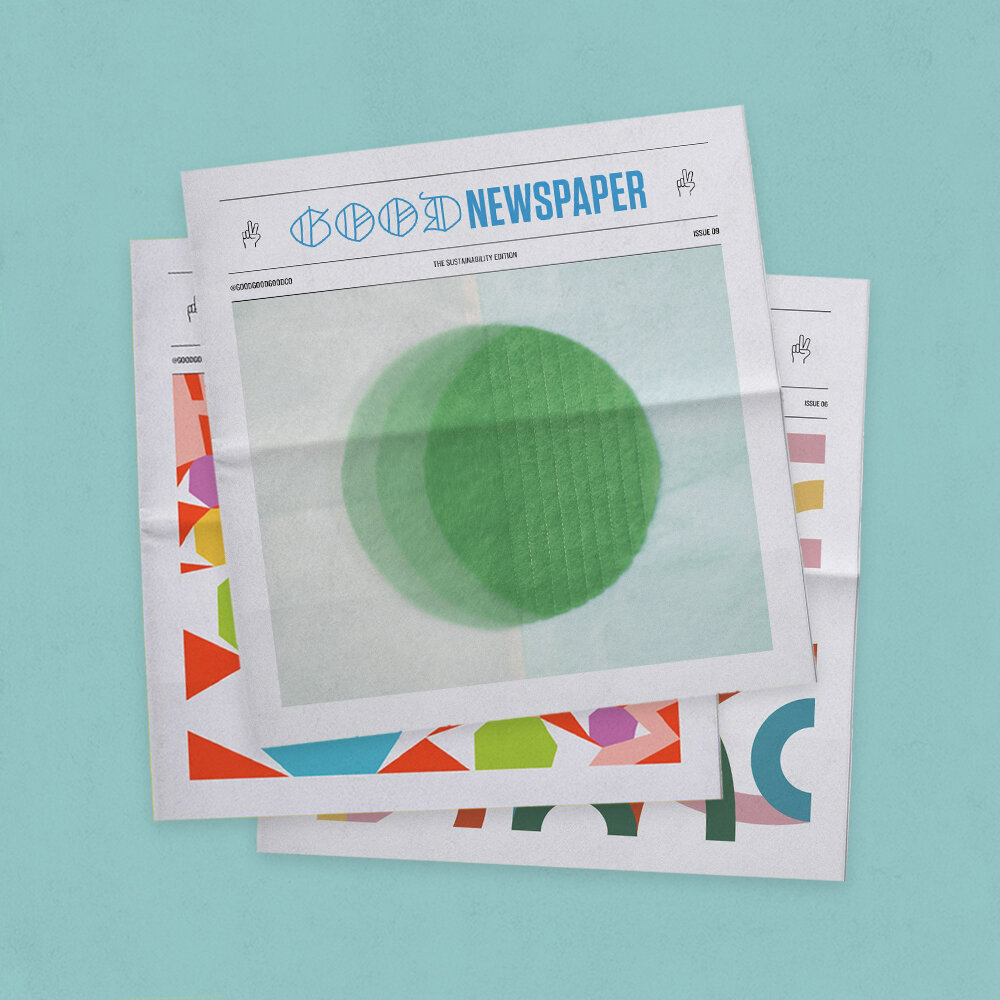news_paper: (115, 112, 891, 962), (160, 115, 823, 738), (77, 218, 751, 823)
